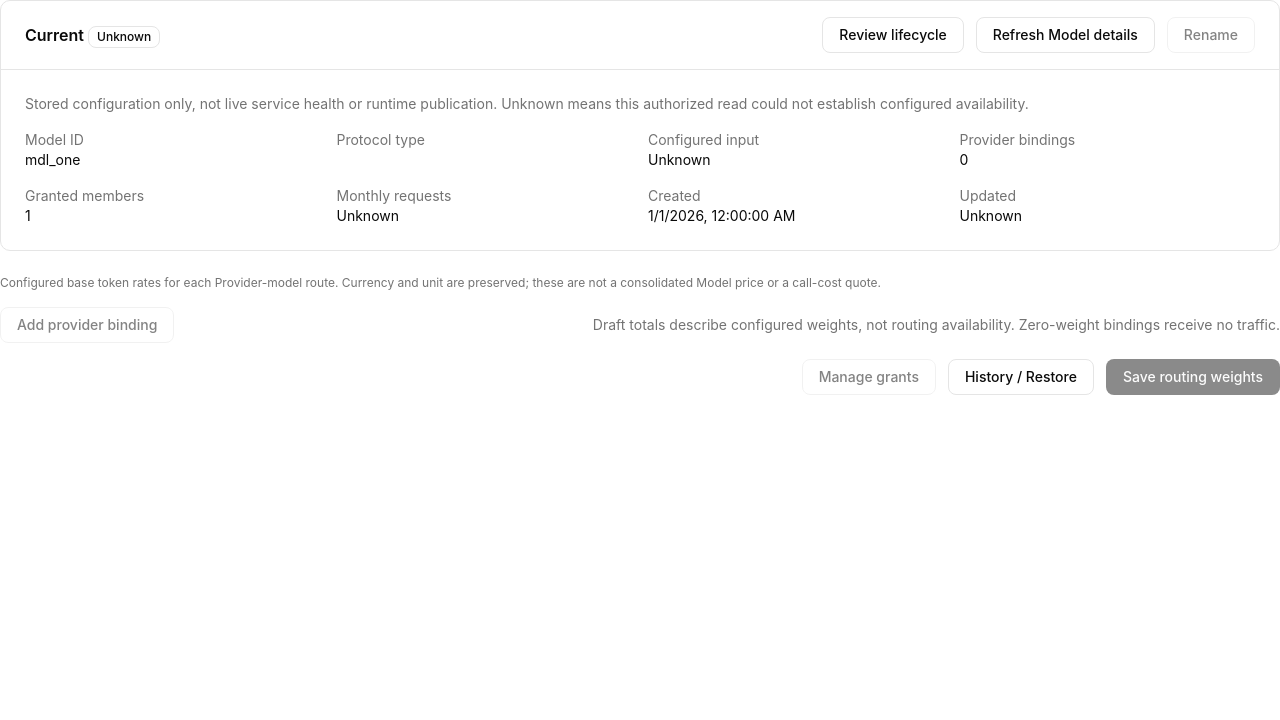
Test: reversible Model lifecycle review › keeps independent read-only permission and archived status read-only
What coordinates should you click on to do the following:
click the button "Review lifecycle"
I would click on:
 (893, 35)
Its box is [822, 17, 964, 53].
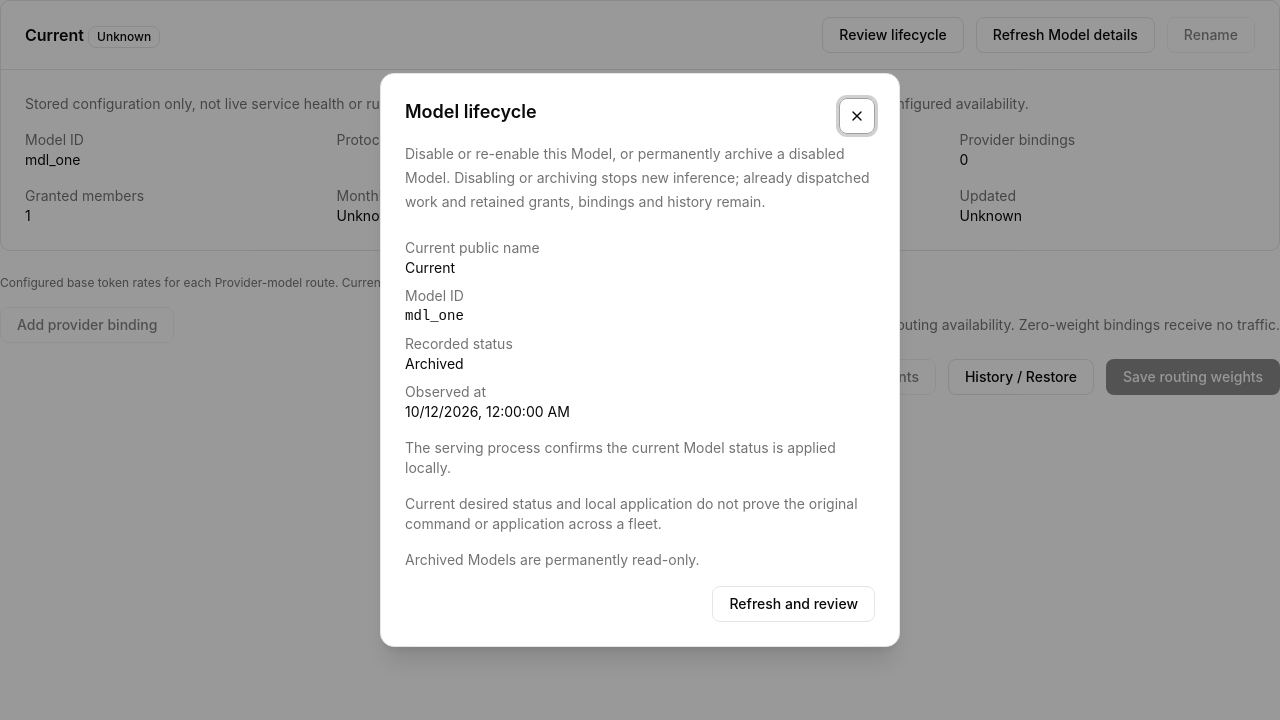
Now the dialog shows "Observed at", box [405, 383, 486, 400]
Now the dialog shows "Archived Models are permanently read-only.", box [405, 551, 700, 568]
